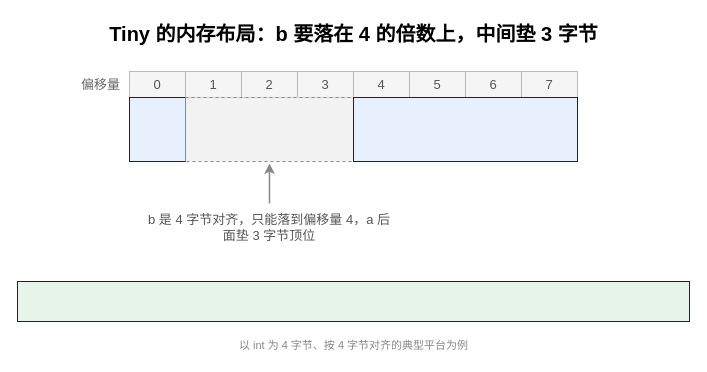
This 707x372 diagram has some shape labels left out. The box of each missing label's shape, as (x1, y1, x2, y2) in pixels:
a char: (128, 96, 186, 162)
b int（4 字节）: (352, 96, 578, 162)
填充 ×3: (184, 96, 354, 162)
成员合计 5 字节 + 填充 3 字节 = sizeof(Tiny) = 8: (16, 280, 690, 322)
